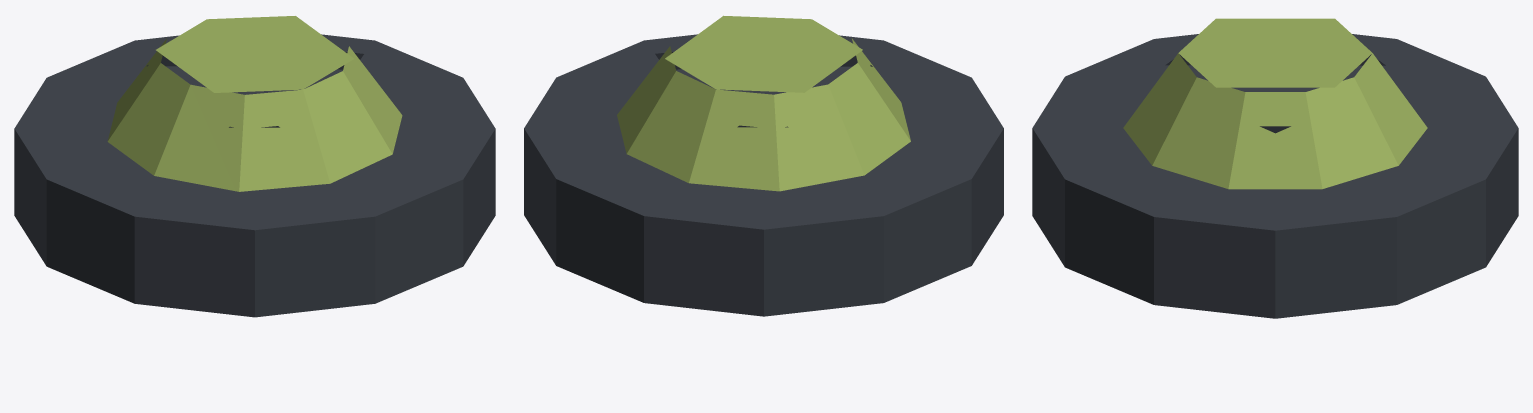
The model's file is mine-gas.lod.glb.
The picture shows the model from 3 angles, left to right: view 1: azimuth 30°, elevation 25°; view 2: azimuth 150°, elevation 25°; view 3: azimuth 270°, elevation 25°; orthographic projection.
Visible parts, largest first — view 1: m; view 2: m; view 3: m.
Boxes of the visible parts, bbox=[...] form: m: bbox=[14, 16, 495, 317]; m: bbox=[524, 15, 1003, 316]; m: bbox=[1032, 18, 1518, 318].
Bounding box in the file's own units: 0.0926 × 0.0519 × 0.0926.
